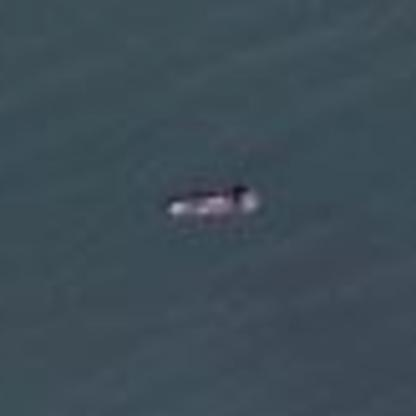ship: (156, 178, 265, 226)
